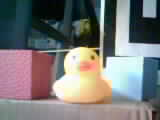duck: (39, 33, 111, 102)
